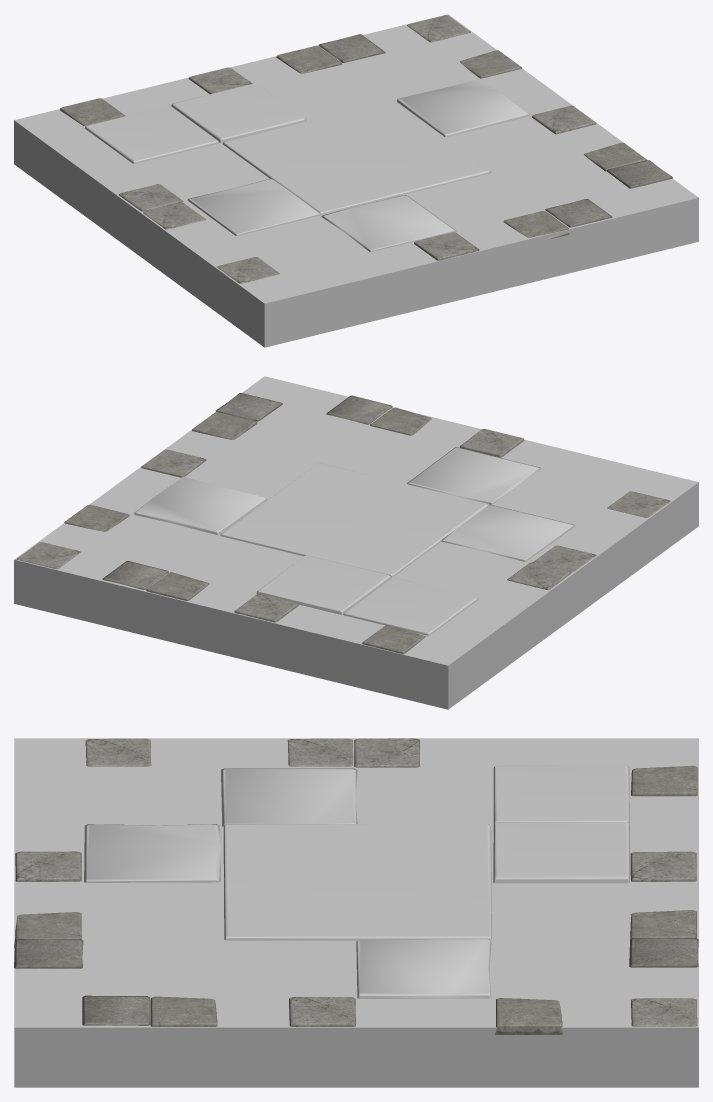
File: SM_InteriorFloor_2.fbx
The picture shows the model from 3 angles, top to bottom: view 1: azimuth 30°, elevation 25°; view 2: azimuth 150°, elevation 25°; view 3: azimuth 270°, elevation 25°; orthographic projection. The views are drawn at different scales.
Visible parts, largest first — view 1: SM_InteriorFloor_2_LOD0; view 2: SM_InteriorFloor_2_LOD0; view 3: SM_InteriorFloor_2_LOD0.
Boxes of the visible parts, left/top/right/bottom form: SM_InteriorFloor_2_LOD0: left=14, top=14, right=698, bottom=347; SM_InteriorFloor_2_LOD0: left=14, top=376, right=698, bottom=709; SM_InteriorFloor_2_LOD0: left=14, top=738, right=698, bottom=1087.
Bounding box in the file's own units: 501 × 500 × 52.36.
